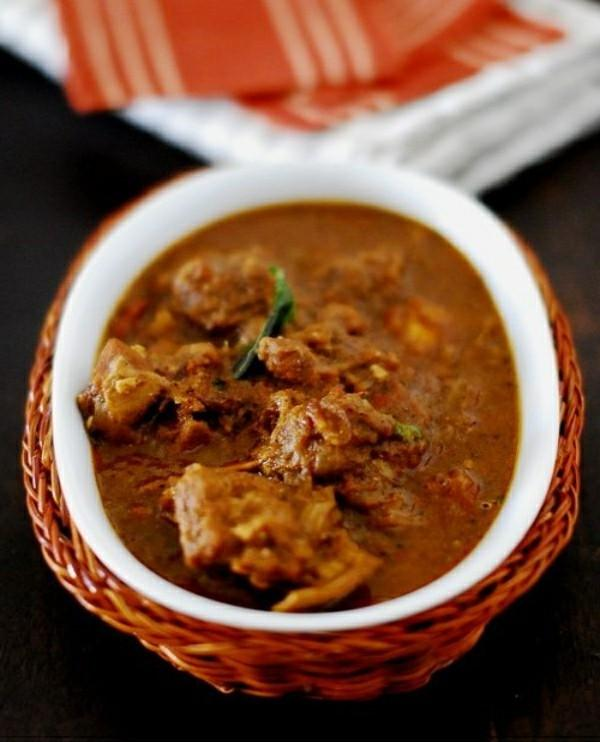MuttonCurry: (81, 198, 520, 612)
